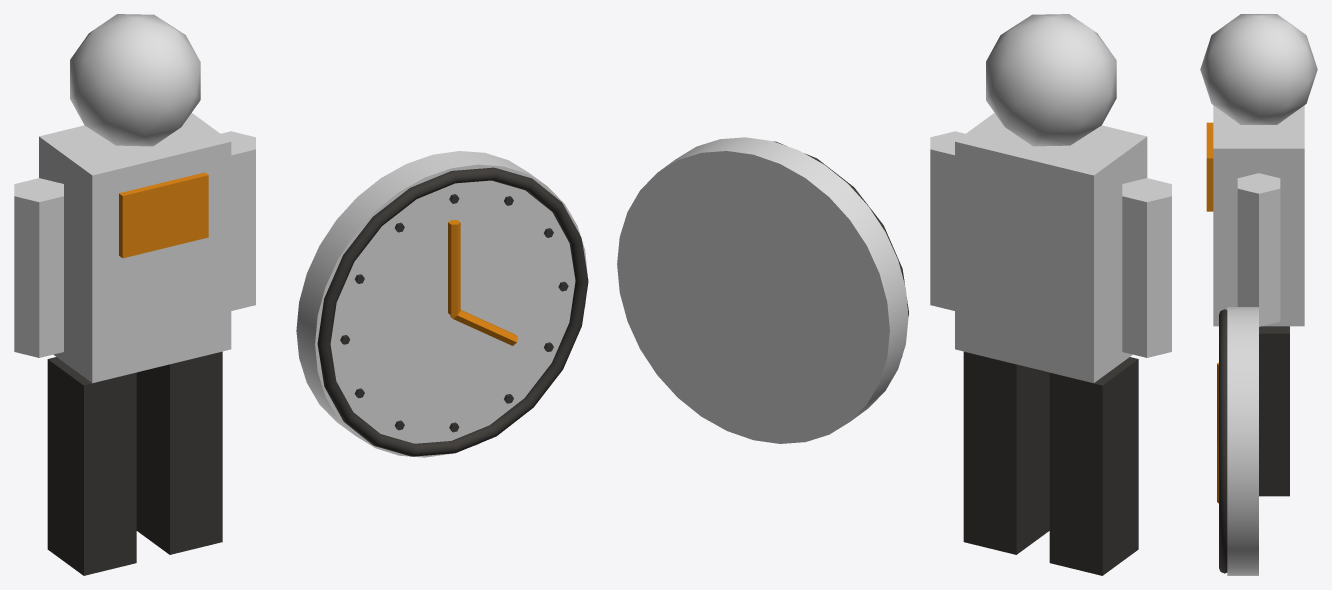
The model's file is R2_full_night_crew.glb.
The picture shows the model from 3 angles, left to right: view 1: azimuth 30°, elevation 25°; view 2: azimuth 150°, elevation 25°; view 3: azimuth 270°, elevation 25°; orthographic projection. The views are drawn at different scales.
Parts seen in each view (by area): view 1: instance_white, instance_ink, instance_amber; view 2: instance_white, instance_ink; view 3: instance_white, instance_ink, instance_amber.
Boxes of the visible parts, box(x1,y1,x2,y2) form: instance_white: box(14, 14, 587, 457); instance_ink: box(47, 167, 588, 575); instance_amber: box(119, 172, 517, 345); instance_white: box(617, 14, 1171, 443); instance_ink: box(773, 141, 1138, 575); instance_white: box(1200, 14, 1317, 575); instance_ink: box(1219, 309, 1289, 573); instance_amber: box(1206, 122, 1218, 503).
Size of the model in its own units: 1.68 by 1.52 by 0.36.
